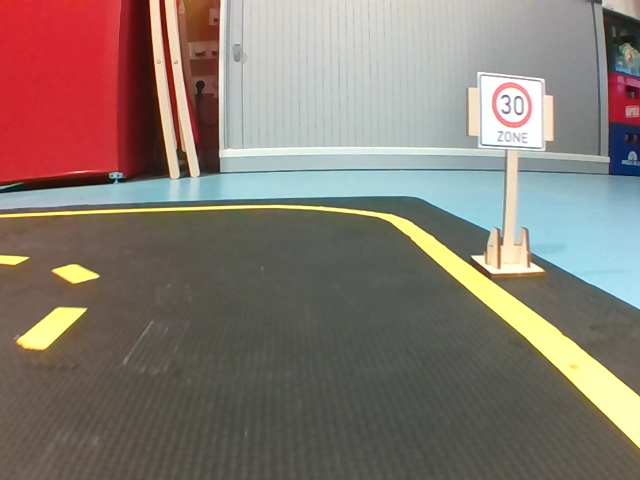30: (412, 94, 454, 129)
stop: (132, 102, 156, 138)
